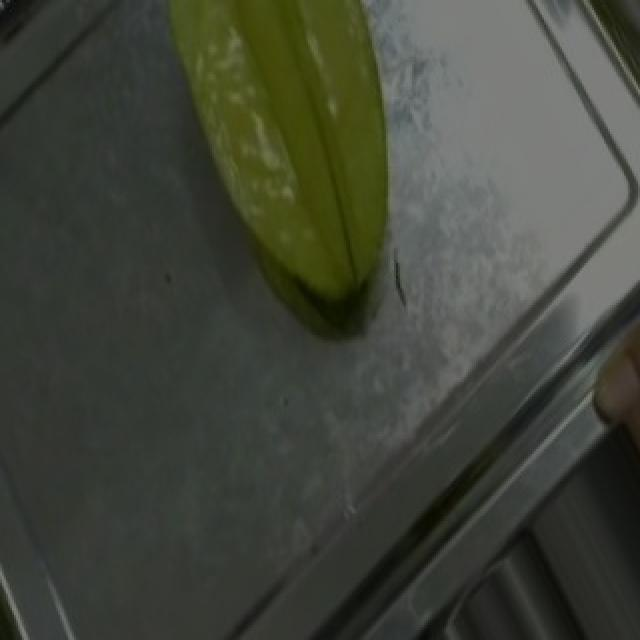fruit: (138, 0, 480, 327)
